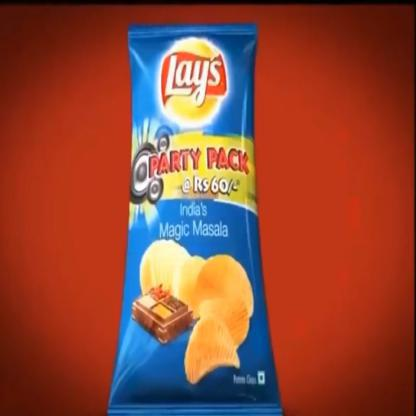indian_magic_masala: (111, 27, 280, 415)
